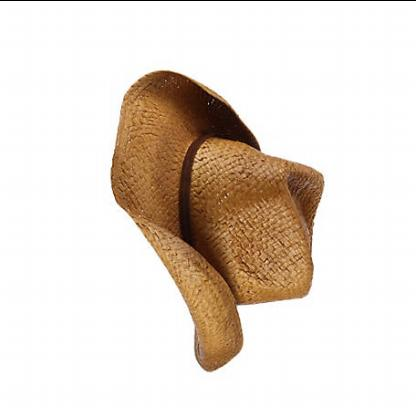hat: (106, 68, 326, 376)
